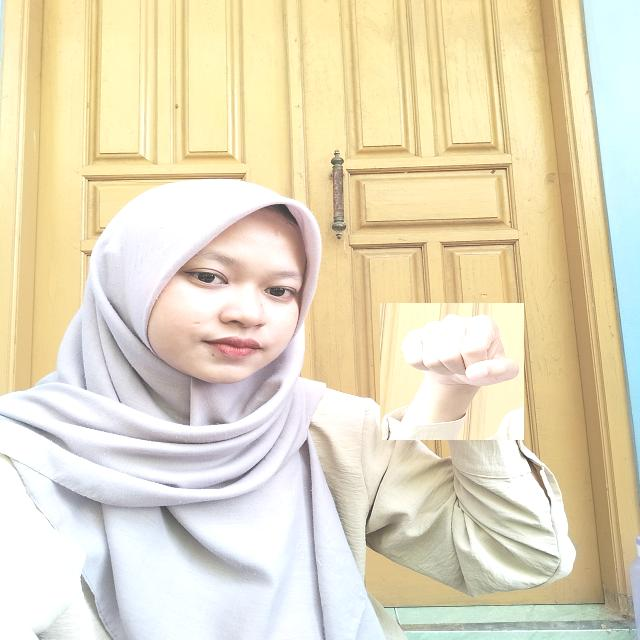baik: (380, 303, 524, 440)
